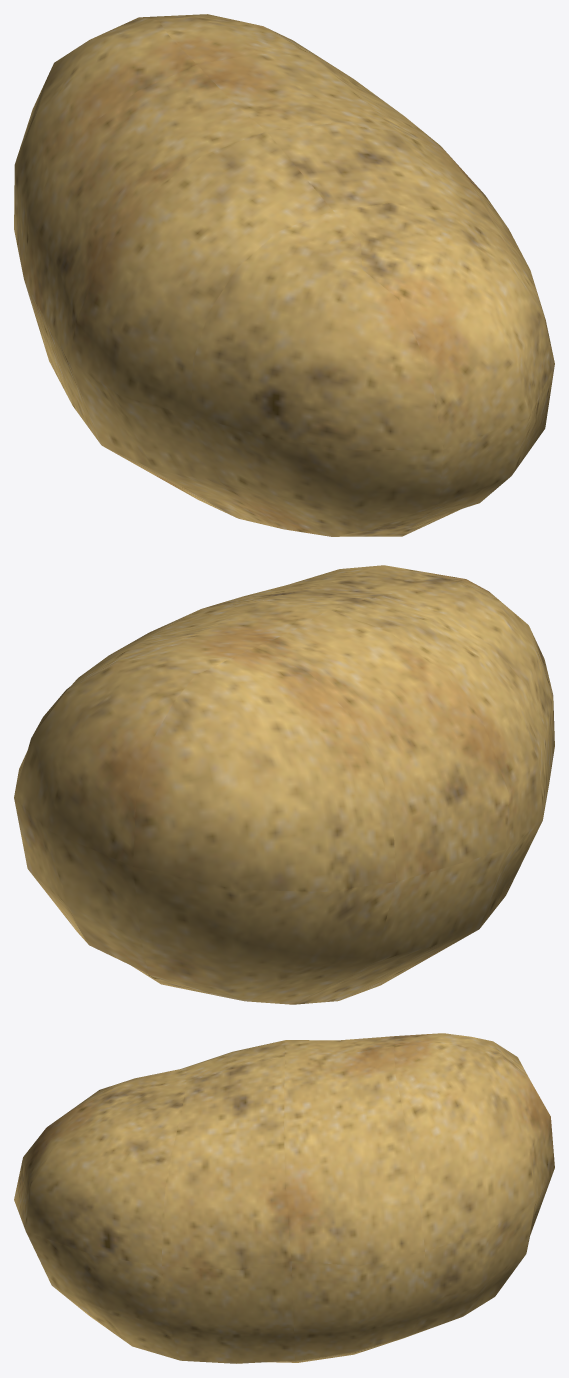
The model's file is Potato_14_potato_b4.obj.
The picture shows the model from 3 angles, top to bottom: view 1: azimuth 30°, elevation 25°; view 2: azimuth 150°, elevation 25°; view 3: azimuth 270°, elevation 25°; orthographic projection. The views are drawn at different scales.
Bounding box in the file's own units: 0.0976 × 0.0851 × 0.1395.
